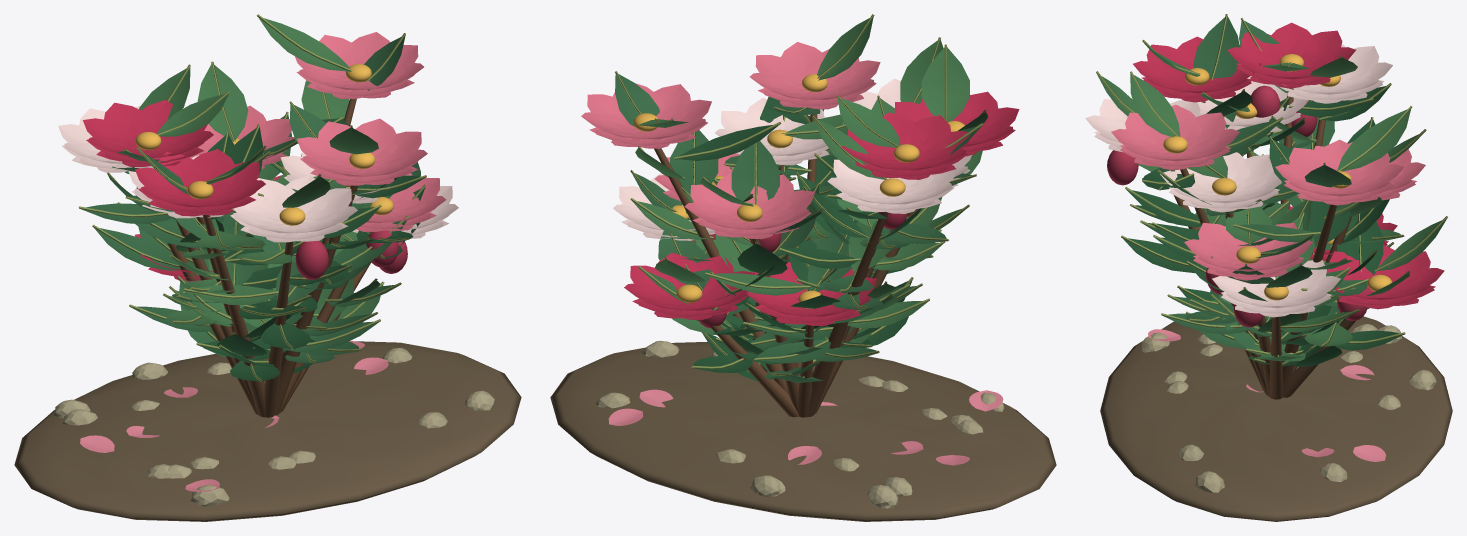
File: camellia.glb
3 views of the same model, side by side, from view 1: azimuth 30°, elevation 25°; view 2: azimuth 150°, elevation 25°; view 3: azimuth 270°, elevation 25° (orthographic). The views are drawn at different scales.
Visible parts, largest first — view 1: camellia-stone, camellia-leaf, camellia-petal, camellia-bark; view 2: camellia-stone, camellia-leaf, camellia-petal, camellia-bark; view 3: camellia-stone, camellia-petal, camellia-leaf, camellia-bark.
Boxes of the visible parts, <box> form: camellia-stone: <box>14,341,521,521</box>; camellia-leaf: <box>78,14,426,381</box>; camellia-petal: <box>58,32,458,491</box>; camellia-bark: <box>167,98,371,417</box>; camellia-stone: <box>550,340,1056,521</box>; camellia-leaf: <box>615,14,987,382</box>; camellia-petal: <box>581,42,1019,465</box>; camellia-bark: <box>654,114,916,417</box>; camellia-stone: <box>1100,316,1452,521</box>; camellia-petal: <box>1085,22,1444,461</box>; camellia-leaf: <box>1096,14,1447,366</box>; camellia-bark: <box>1173,88,1355,399</box>.
Bounding box in the file's own units: 2.3 × 1.76 × 1.63.
